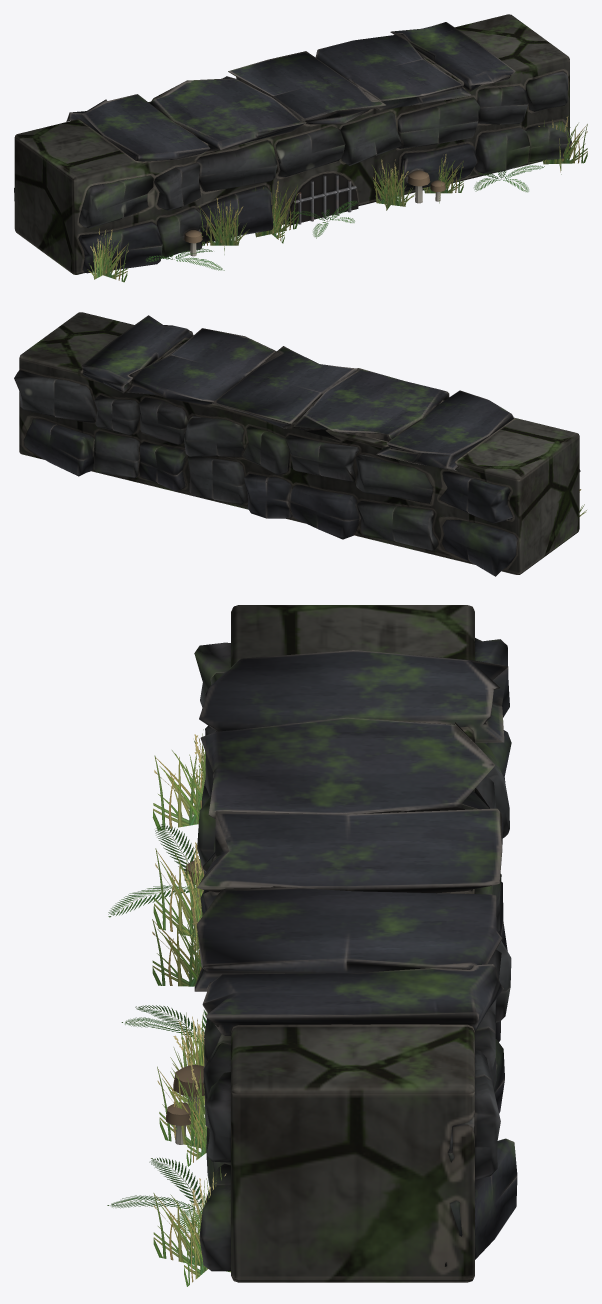
Rendered from HutFooting.fbx.
The picture shows the model from 3 angles, top to bottom: view 1: azimuth 30°, elevation 25°; view 2: azimuth 150°, elevation 25°; view 3: azimuth 270°, elevation 25°; orthographic projection. The views are drawn at different scales.
Parts seen in each view (by area): view 1: HutFooting_Main, HutFooting_Leaves; view 2: HutFooting_Main; view 3: HutFooting_Main, HutFooting_Leaves.
Part boxes in pixels (x1,y1,x2,y2): HutFooting_Main: (14,14,571,274); HutFooting_Leaves: (87,116,587,282); HutFooting_Main: (14,312,580,576); HutFooting_Main: (166,605,517,1282); HutFooting_Leaves: (107,729,230,1286).
Bounding box in the file's own units: 807 × 166 × 302.
